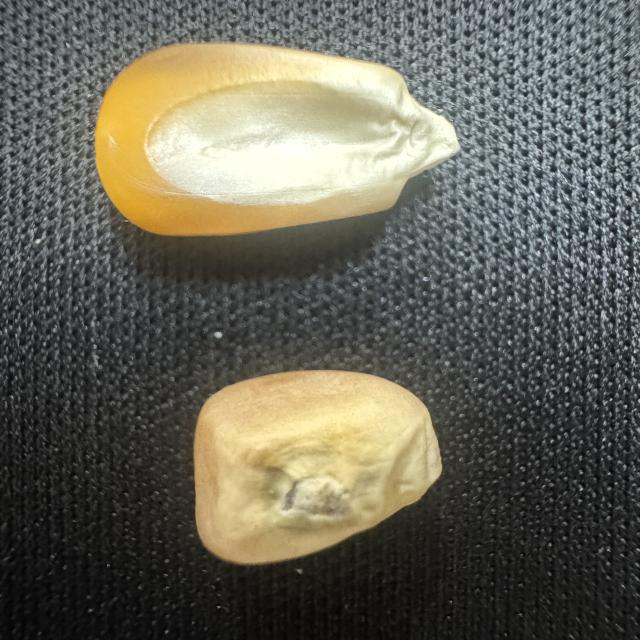Bad-Seed: (159, 358, 462, 572)
Good-Seed: (81, 37, 473, 257)
